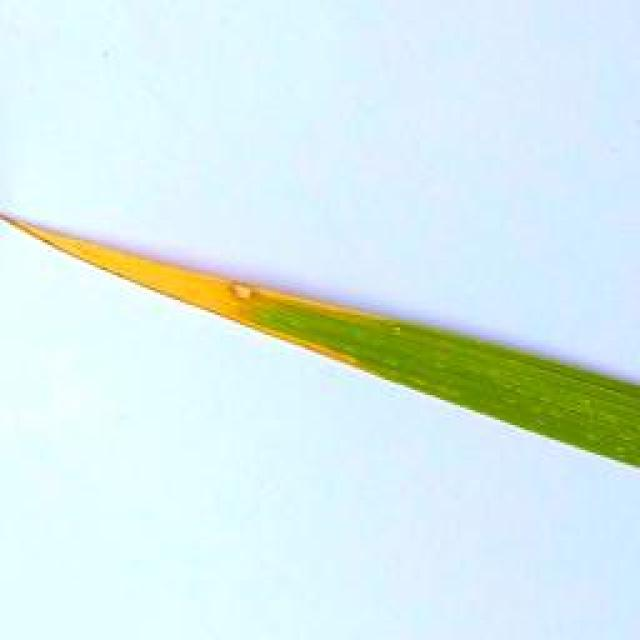Unhealthy: (3, 215, 385, 368)
